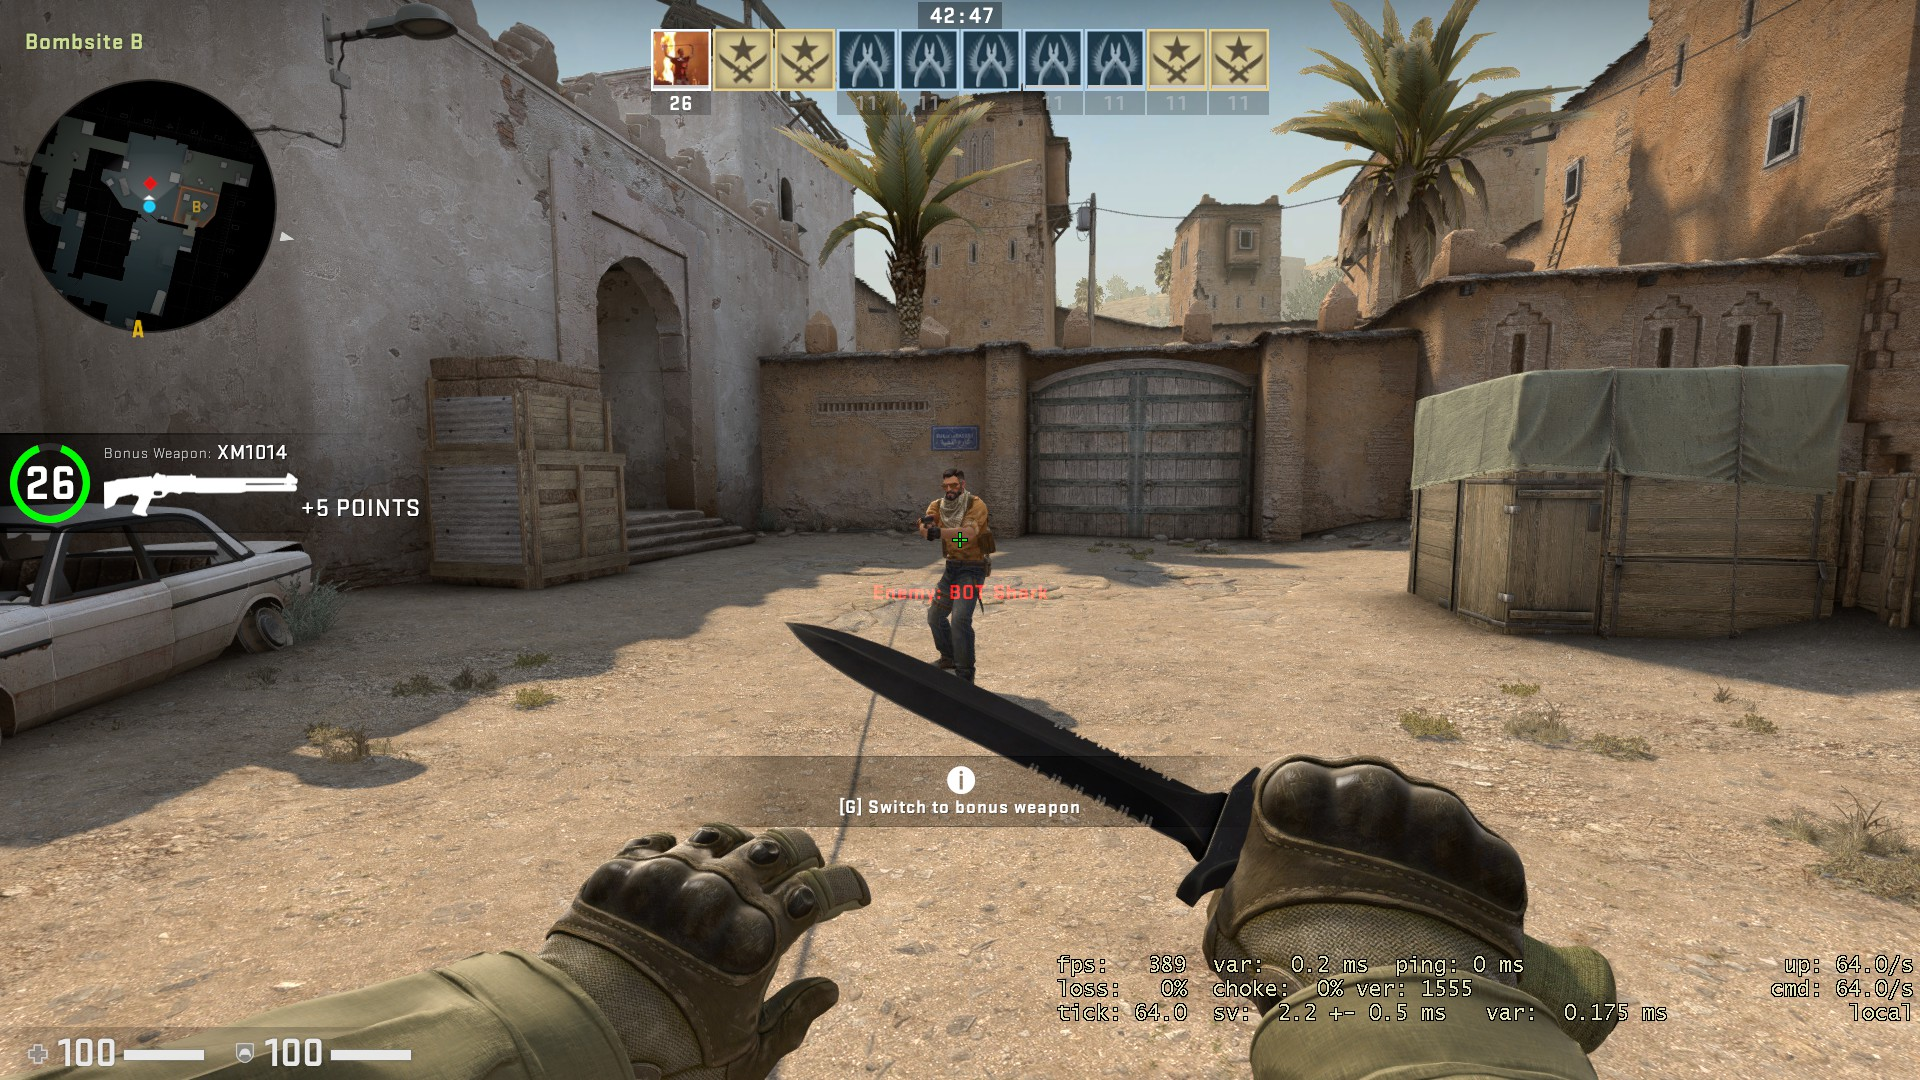player: (913, 464, 999, 697)
